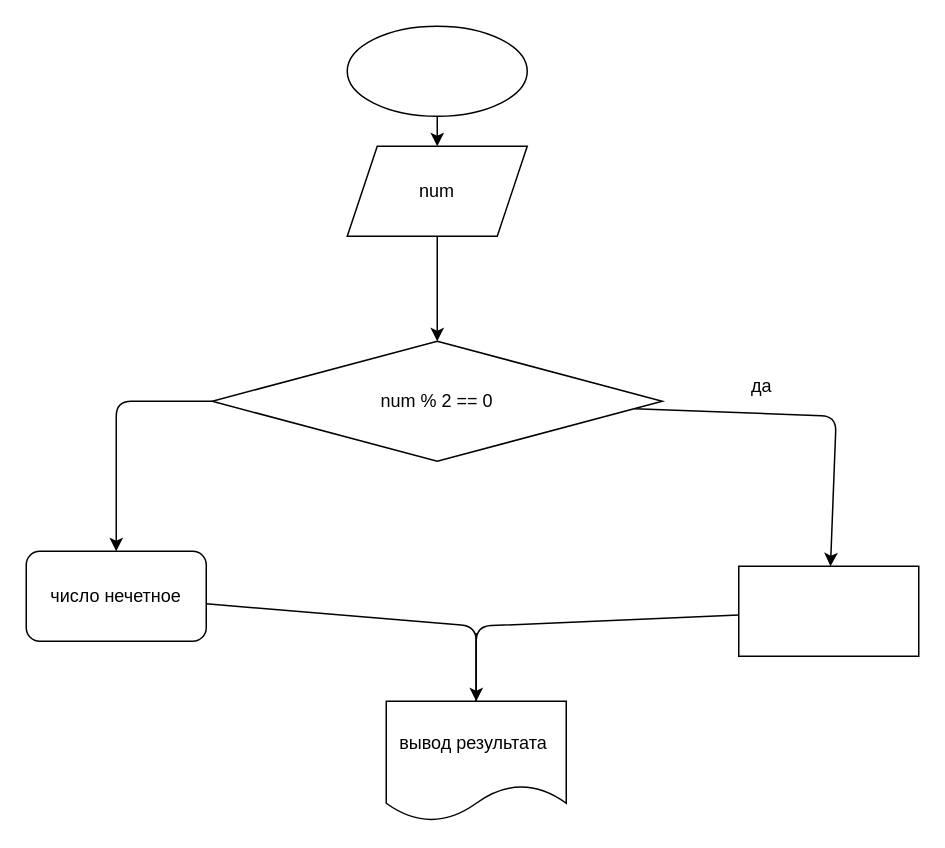
This 945x848 diagram has some shape labels left out. The shapes that lost their labels are listed below. From the top down, each one's centre as x and y in pixels, then its label:
At (x=436, y=70): "начало".
At (x=828, y=610): "число четное".
